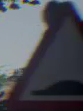Speed Breaker ahead: (8, 15, 78, 100)
